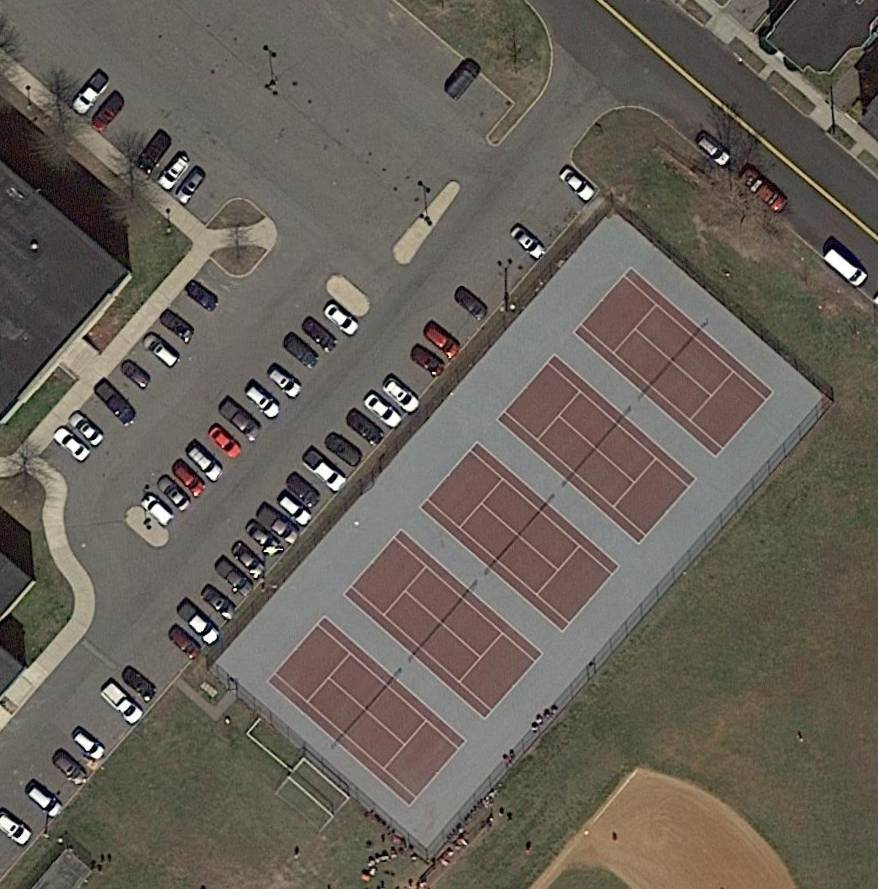small vehicle: (91, 375, 145, 429), (297, 445, 352, 497), (737, 167, 791, 216), (819, 243, 871, 292), (255, 501, 305, 550), (132, 125, 178, 178), (176, 600, 225, 649), (218, 397, 268, 445), (98, 680, 148, 727), (68, 67, 113, 119), (504, 219, 550, 266), (340, 403, 387, 448), (440, 57, 485, 104), (320, 428, 369, 471), (138, 327, 183, 373), (448, 281, 494, 326), (87, 88, 132, 134), (279, 329, 323, 373), (241, 519, 285, 563), (226, 539, 270, 583), (379, 373, 424, 416), (297, 313, 341, 356), (119, 661, 162, 704), (320, 297, 364, 339), (198, 582, 242, 624), (417, 320, 462, 361), (185, 442, 228, 484), (156, 304, 200, 345), (243, 382, 287, 423), (49, 425, 93, 466), (173, 165, 213, 210), (169, 455, 209, 500), (362, 388, 404, 430), (214, 558, 256, 600), (284, 471, 326, 513), (66, 410, 109, 451), (554, 164, 598, 204), (406, 340, 448, 381), (25, 781, 66, 821), (51, 750, 92, 790), (154, 474, 195, 514), (155, 151, 193, 194), (117, 356, 157, 395), (165, 624, 205, 663), (695, 131, 736, 169), (207, 424, 248, 462), (183, 276, 221, 316), (138, 491, 176, 530), (71, 727, 109, 764), (265, 364, 304, 400), (276, 492, 314, 528)
tennis court: (572, 265, 776, 461), (265, 613, 469, 809), (418, 439, 621, 634), (495, 352, 699, 546), (344, 528, 545, 722)
